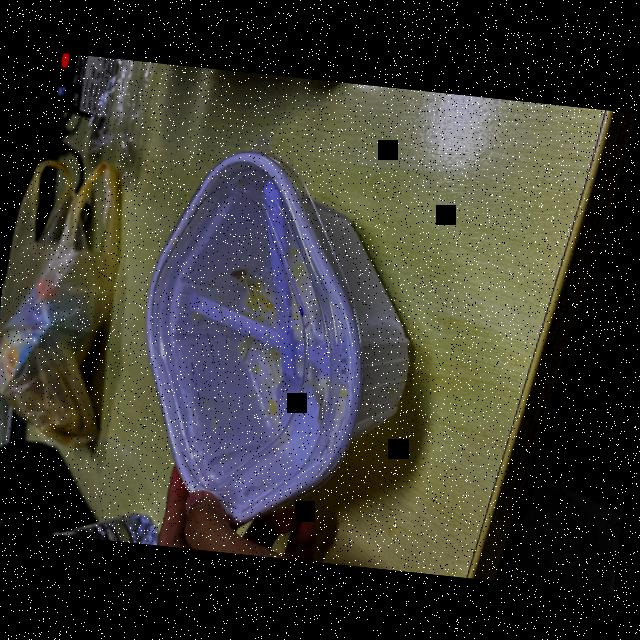plastic_box: (119, 126, 442, 546)
